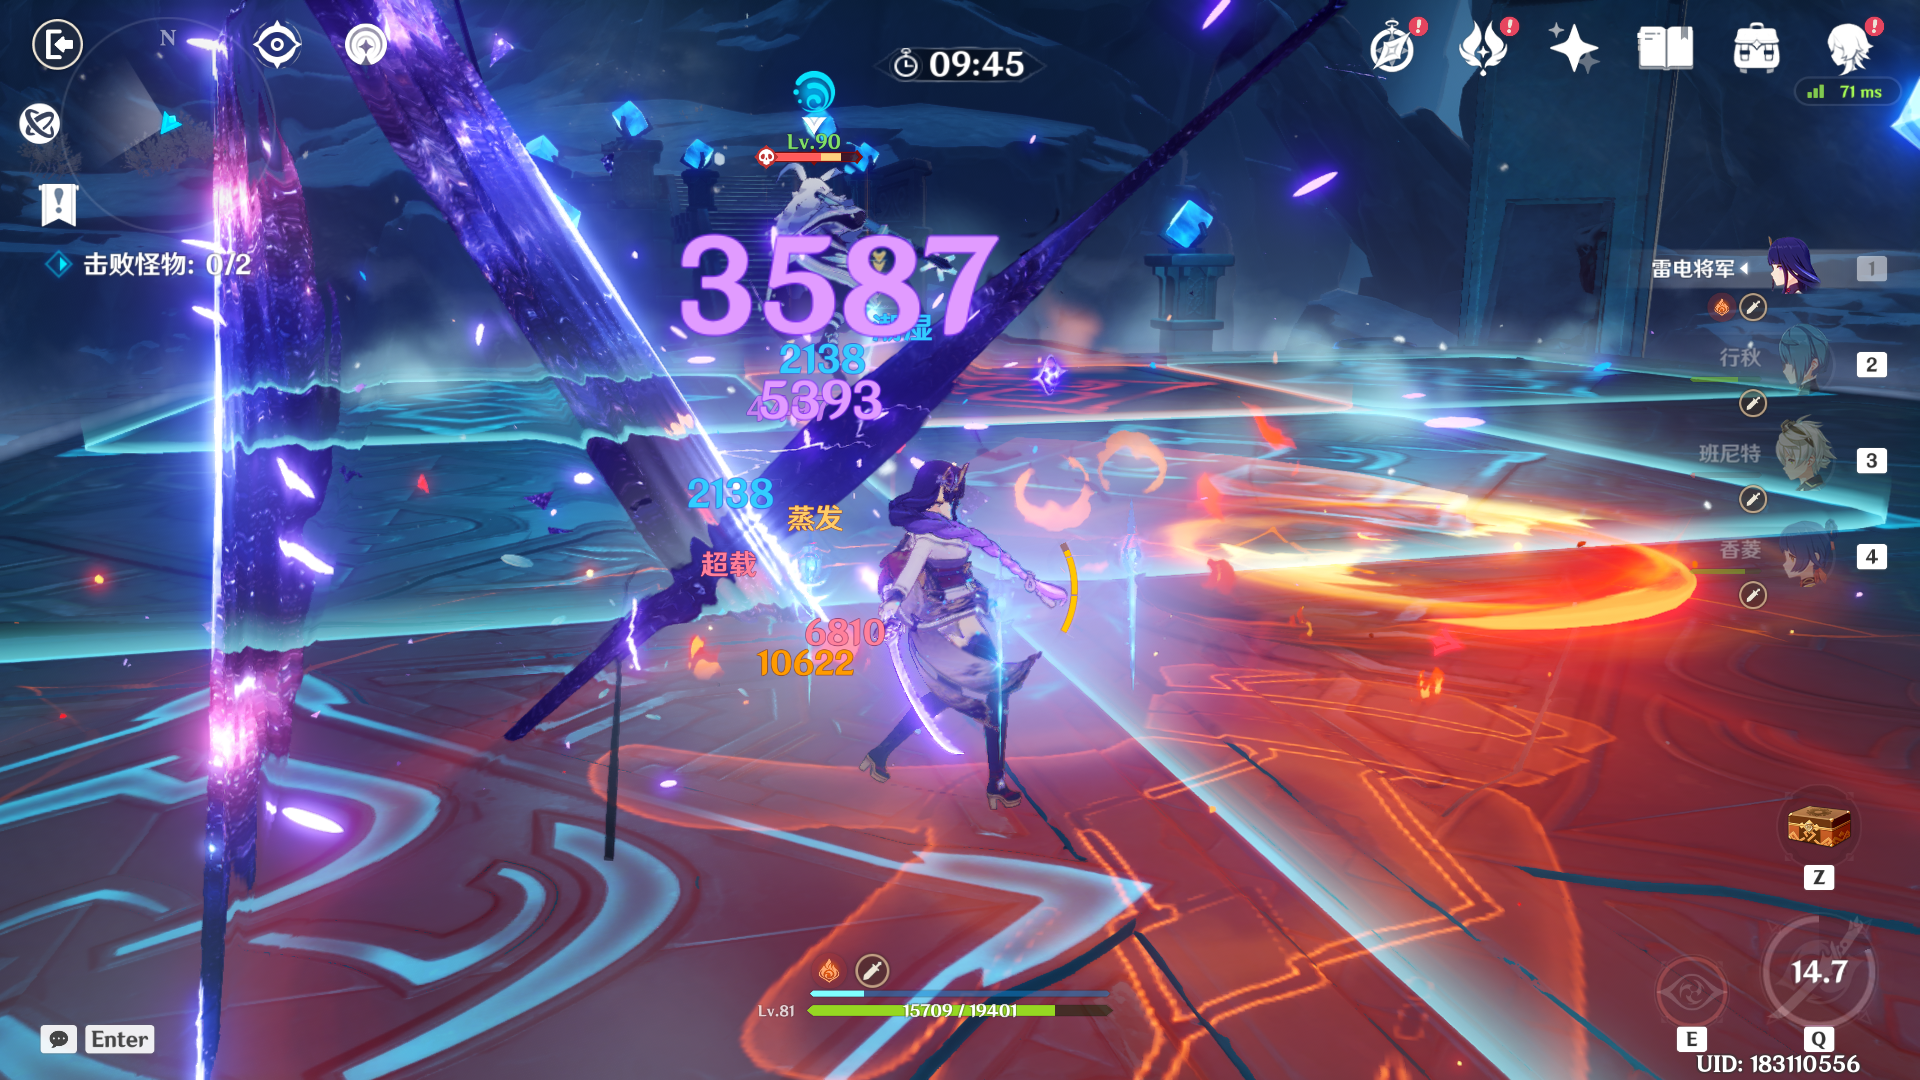caster: (735, 138, 928, 345)
character: (819, 434, 1087, 864)
